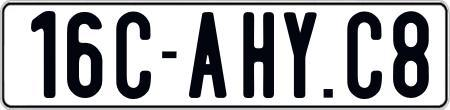1: (31, 8, 55, 101)
6: (64, 12, 104, 102)
8: (393, 8, 434, 101)
A: (188, 11, 230, 100)
C: (114, 10, 155, 101), (344, 12, 380, 99)
H: (242, 11, 278, 100)
Y: (284, 11, 322, 100)
